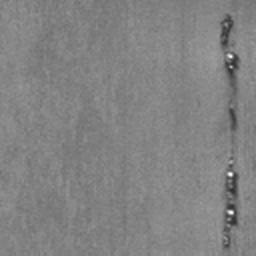Slag inclusion: (218, 10, 242, 134), (221, 154, 242, 252)
